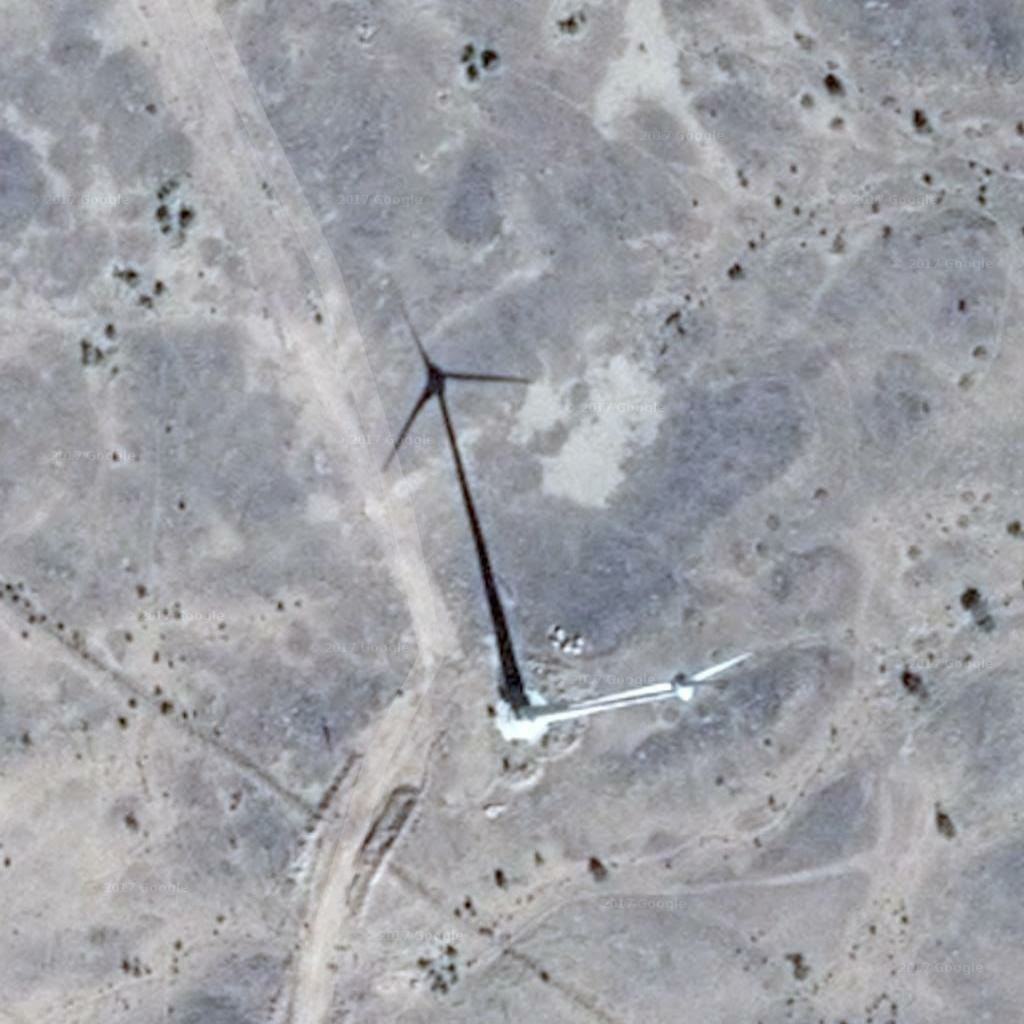Windmill: (377, 307, 534, 631)
